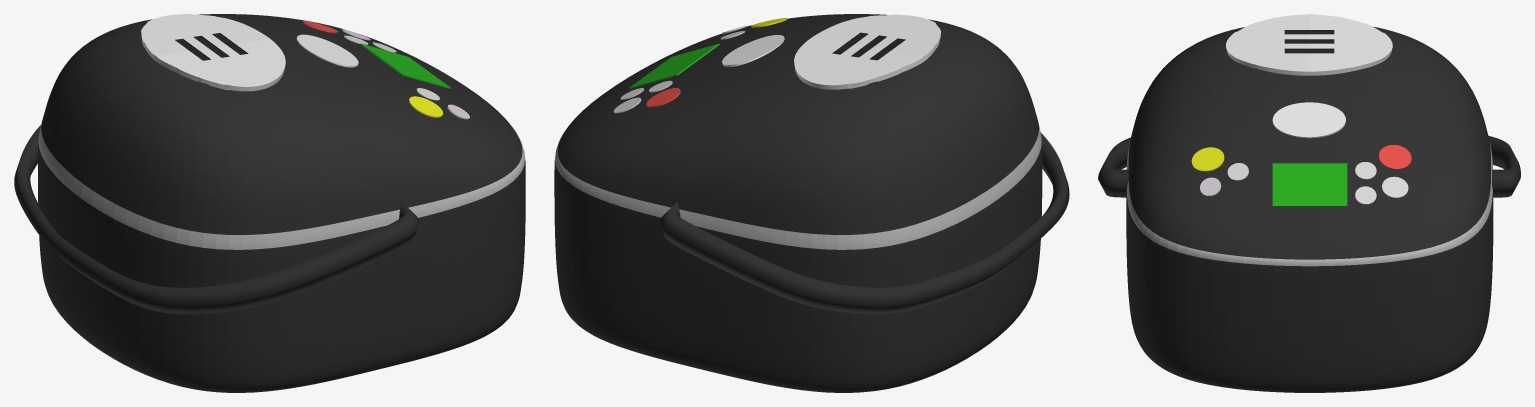
Rendered from riceCooker.fbx.
The picture shows the model from 3 angles, left to right: view 1: azimuth 30°, elevation 25°; view 2: azimuth 150°, elevation 25°; view 3: azimuth 270°, elevation 25°; orthographic projection. The views are drawn at different scales.
Parts seen in each view (by area): view 1: Cube; view 2: Cube; view 3: Cube.
Boxes of the visible parts, x1,y1,x2,y2 form: Cube: (14, 14, 525, 392); Cube: (554, 14, 1069, 392); Cube: (1098, 14, 1520, 392).
Size of the model in its own units: 232 by 150 by 230.
